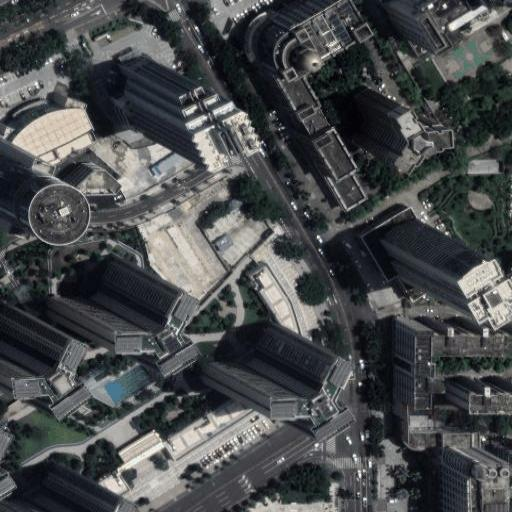building: (60, 253, 149, 341), (207, 317, 292, 406), (134, 50, 220, 137), (155, 385, 247, 452), (0, 444, 79, 512), (0, 82, 79, 150), (374, 214, 439, 285), (352, 89, 413, 157), (231, 249, 284, 321), (396, 314, 440, 400), (262, 56, 314, 123), (413, 313, 512, 341), (0, 309, 33, 393), (293, 110, 340, 168), (440, 450, 481, 512), (482, 439, 512, 505), (253, 16, 291, 66), (56, 145, 106, 181), (449, 372, 512, 399), (113, 432, 161, 467), (318, 154, 355, 194), (440, 435, 479, 461), (80, 453, 111, 484), (461, 155, 501, 176), (131, 136, 164, 159), (396, 411, 426, 430), (437, 406, 474, 420), (396, 400, 434, 411), (196, 219, 215, 236), (208, 182, 223, 196)
